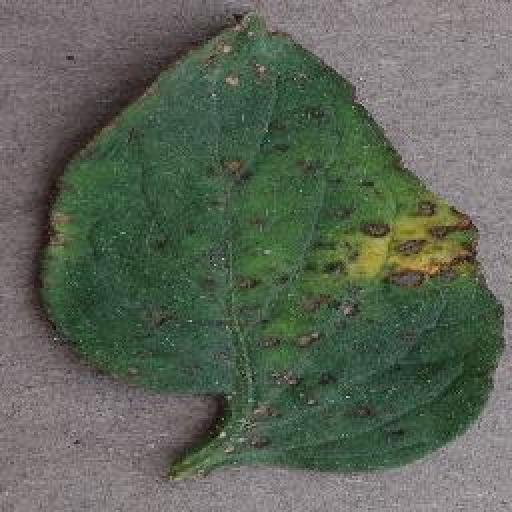Bacterial Spot: (26, 4, 512, 480)
